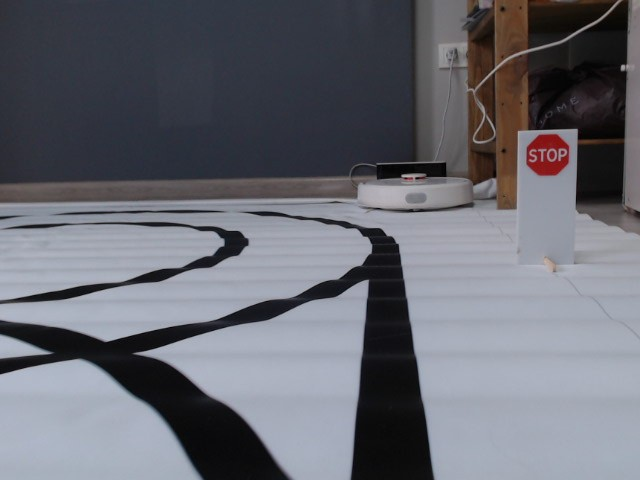Stop: (524, 132, 571, 177)
